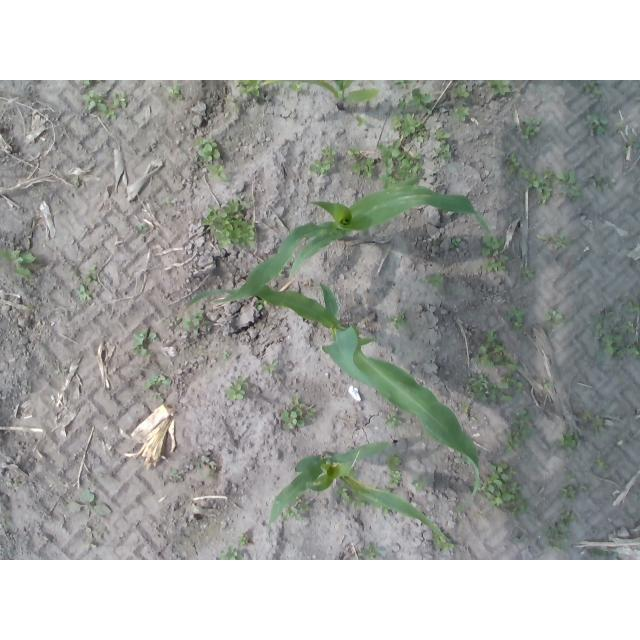Maize: (188, 282, 481, 514), (211, 185, 494, 303), (267, 440, 452, 541), (240, 80, 380, 108), (513, 534, 528, 545)
Weeds: (475, 462, 529, 519), (201, 194, 256, 248), (518, 165, 582, 203), (377, 139, 423, 188), (472, 329, 521, 371), (460, 374, 524, 402), (502, 407, 534, 454), (544, 509, 576, 554), (0, 244, 36, 281), (67, 489, 113, 516), (390, 113, 432, 141), (281, 397, 316, 429), (82, 88, 117, 120), (480, 233, 509, 271), (601, 333, 640, 359), (397, 88, 432, 114), (131, 328, 158, 360), (282, 496, 311, 524), (309, 147, 336, 176), (334, 485, 366, 508), (192, 137, 220, 163), (585, 110, 612, 136), (582, 410, 606, 439), (385, 453, 404, 488), (535, 231, 571, 249), (520, 116, 542, 145), (70, 265, 99, 287), (433, 128, 452, 161), (557, 428, 583, 452), (593, 310, 615, 337), (432, 528, 456, 552), (545, 308, 568, 333), (350, 157, 375, 179), (227, 376, 249, 400), (506, 306, 526, 330), (183, 311, 208, 330), (358, 541, 383, 560), (144, 374, 173, 390), (234, 80, 261, 96), (590, 176, 615, 193), (217, 545, 244, 560), (208, 163, 229, 181), (83, 523, 97, 550), (411, 475, 430, 494), (385, 411, 404, 429), (425, 271, 444, 289), (165, 84, 184, 102), (75, 283, 93, 301), (561, 485, 578, 504), (388, 313, 408, 329), (490, 81, 511, 96), (453, 103, 469, 121), (261, 361, 280, 376), (521, 267, 536, 286), (112, 92, 128, 108), (451, 85, 469, 99), (227, 94, 241, 112), (624, 135, 637, 153), (506, 153, 518, 172), (584, 80, 601, 93), (595, 457, 609, 472), (625, 299, 640, 313), (169, 468, 184, 481), (590, 547, 607, 558), (256, 298, 269, 311), (290, 80, 303, 93), (354, 115, 368, 126), (449, 237, 461, 249), (621, 321, 635, 331), (394, 80, 411, 88), (238, 534, 248, 547), (348, 147, 361, 157), (162, 197, 176, 206), (542, 379, 553, 390), (168, 316, 180, 326), (137, 223, 148, 233), (205, 467, 216, 477), (54, 362, 62, 375), (153, 393, 164, 402), (381, 506, 392, 514), (565, 471, 575, 479), (616, 120, 625, 128), (12, 481, 22, 488), (462, 403, 469, 413), (578, 484, 586, 492), (196, 460, 202, 470), (26, 305, 34, 312), (618, 439, 626, 446), (223, 350, 229, 359), (84, 80, 90, 85)
